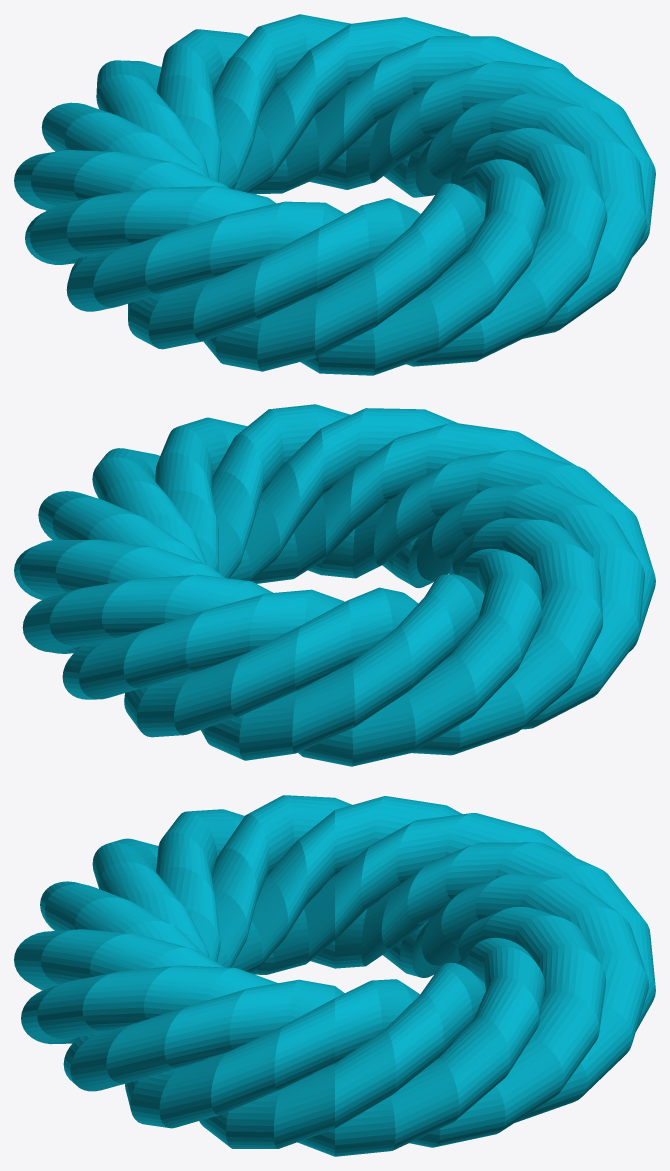
The model's file is tinker_black_hole.glb.
3 renders of one model, top to bottom at view 1: azimuth 30°, elevation 25°; view 2: azimuth 150°, elevation 25°; view 3: azimuth 270°, elevation 25°, orthographic.
Parts seen in each view (by area): view 1: Mesh_Mesh_head_geo.001_lambert2SG.001; view 2: Mesh_Mesh_head_geo.001_lambert2SG.001; view 3: Mesh_Mesh_head_geo.001_lambert2SG.001.
Part boxes in pixels (left/top/right/bottom): Mesh_Mesh_head_geo.001_lambert2SG.001: left=14, top=14, right=655, bottom=375; Mesh_Mesh_head_geo.001_lambert2SG.001: left=14, top=404, right=655, bottom=766; Mesh_Mesh_head_geo.001_lambert2SG.001: left=14, top=795, right=655, bottom=1156.
Bounding box in the file's own units: 40.76 × 10.91 × 40.81.
